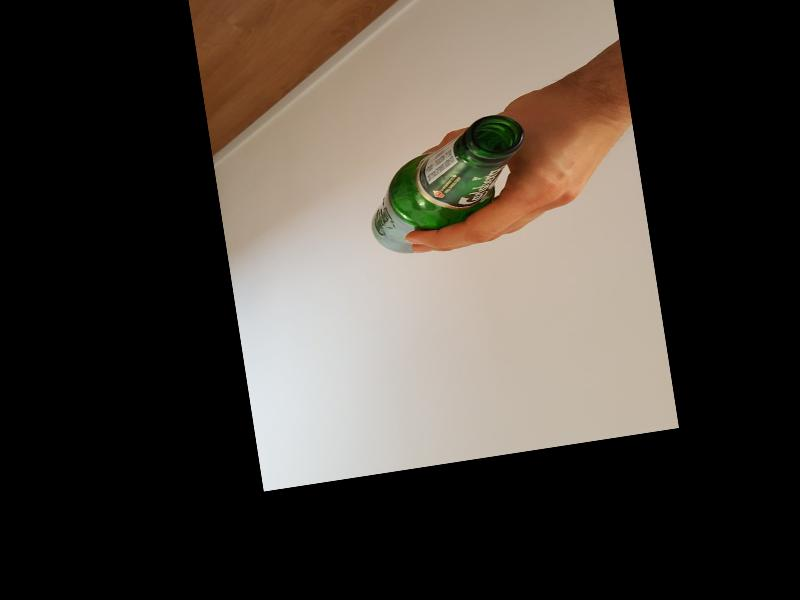Beer: (357, 108, 539, 256)
